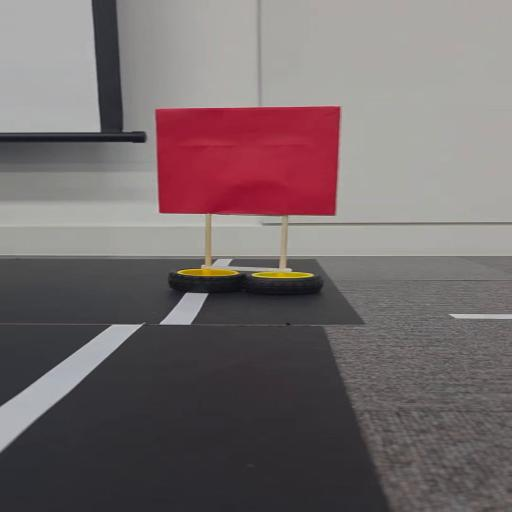Sign_A: (149, 99, 347, 313)
